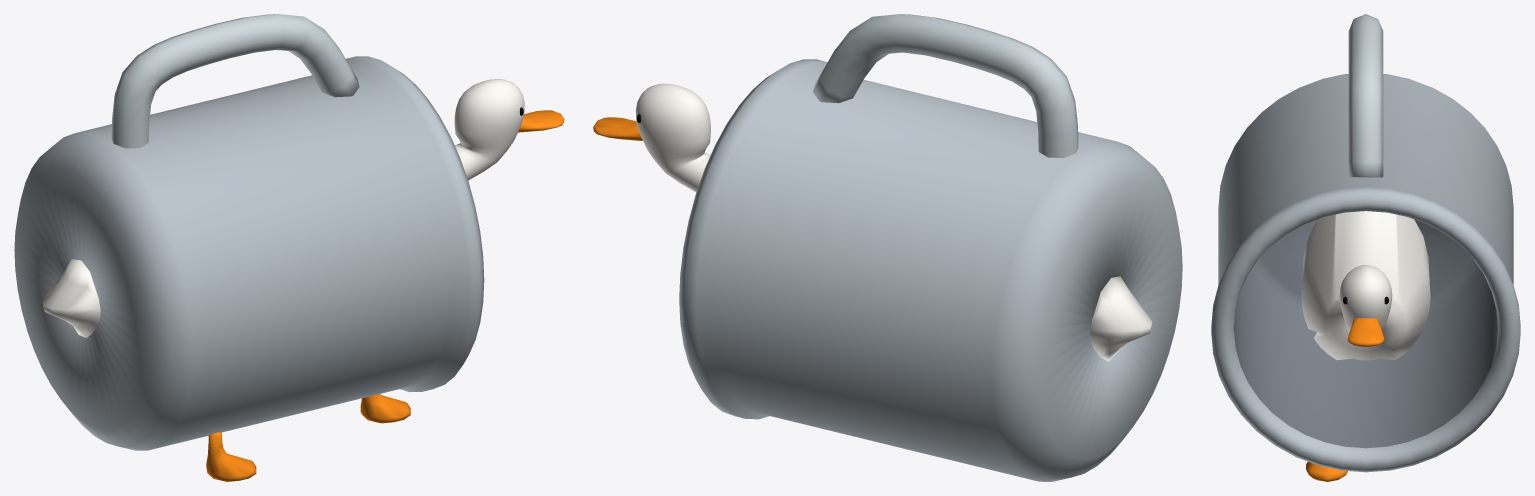
File: duck-steelcup.glb
3 renders of one model, left to right at view 1: azimuth 30°, elevation 25°; view 2: azimuth 150°, elevation 25°; view 3: azimuth 270°, elevation 25°, orthographic. The views are drawn at different scales.
Parts seen in each view (by area): view 1: duck-steelcup; view 2: duck-steelcup; view 3: duck-steelcup.
Part boxes in pixels (bbox=[...]): duck-steelcup: bbox=[14, 14, 564, 481]; duck-steelcup: bbox=[593, 14, 1182, 481]; duck-steelcup: bbox=[1211, 14, 1520, 481].
Bounding box in the file's own units: 1 × 0.762 × 0.5726.
1 material, 1 textured.
